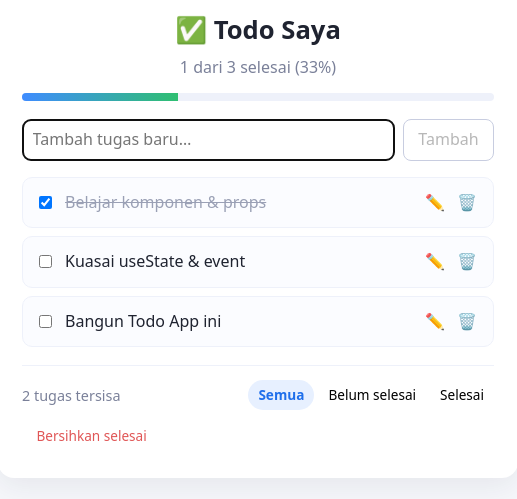
Test: Todo App — menandai selesai › menandai dua tugas sisanya membuat progres jadi 100%
Click the checkbox named "tandai selesai" next to "Kuasai useState & event": (46, 262) top-left (39, 255), bottom-right (52, 268)
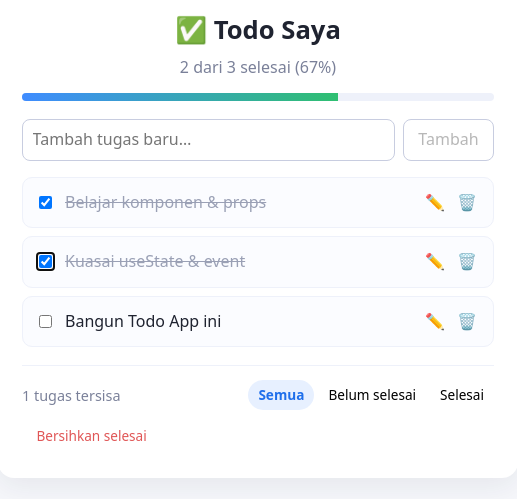
Click the checkbox named "tandai selesai" next to "Bangun Todo App ini": (46, 322) top-left (39, 315), bottom-right (52, 328)
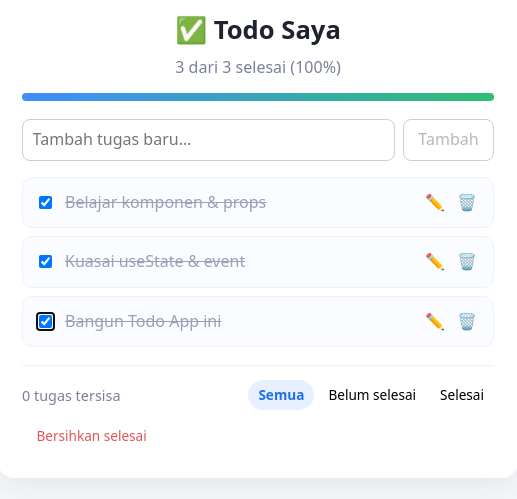
Check: the text "3 dari 3 selesai (100%)" is shown, box top-left (175, 56), bottom-right (341, 78)
